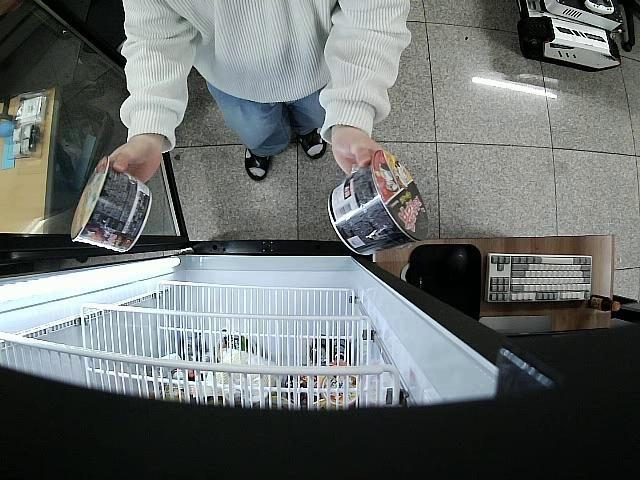07_buldak_L: (328, 150, 428, 256), (70, 156, 151, 253)
